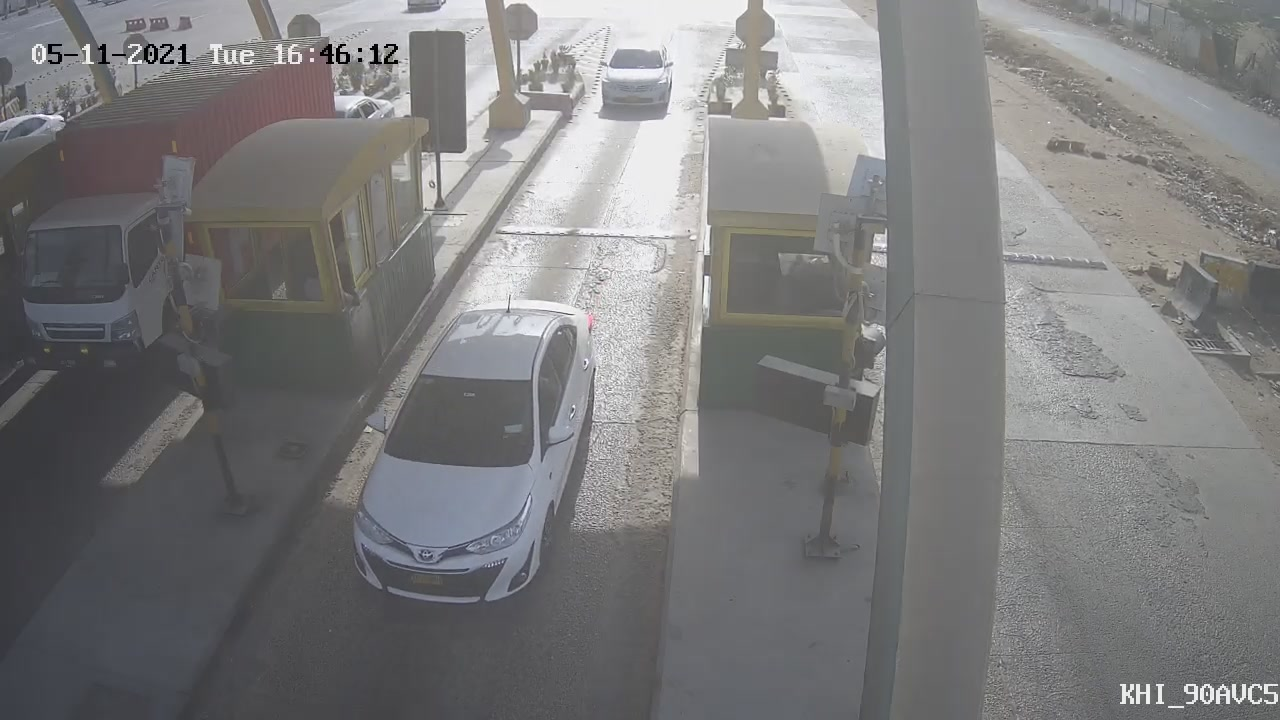F1: (324, 279, 614, 636)
